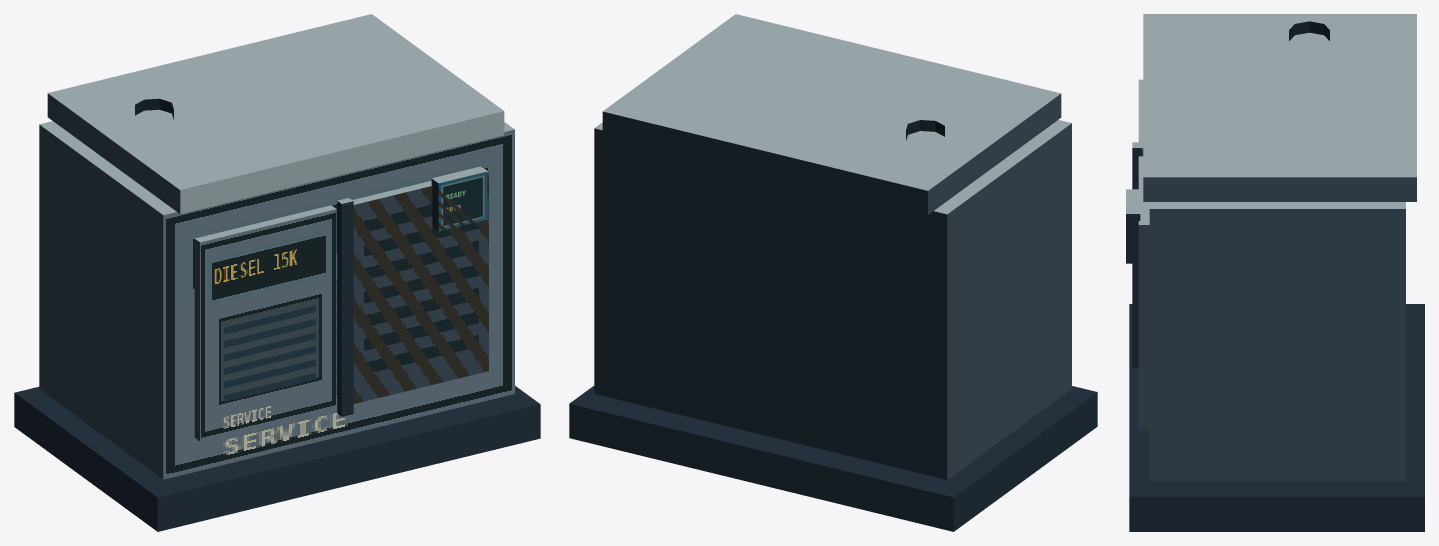
File: generador_diesel_cabinado.glb
3 views of the same model, side by side, from view 1: azimuth 30°, elevation 25°; view 2: azimuth 150°, elevation 25°; view 3: azimuth 270°, elevation 25° (orthographic). The views are drawn at different scales.
Visible parts, largest first — view 1: GENERADORES_PROPS; view 2: GENERADORES_PROPS; view 3: GENERADORES_PROPS.
Boxes of the visible parts, x1,y1,x2,y2 form: GENERADORES_PROPS: (14,14,540,531); GENERADORES_PROPS: (569,14,1097,531); GENERADORES_PROPS: (1126,14,1424,531).
Bounding box in the file's own units: 1.87 × 1.59 × 1.22.
1 material, 1 textured.
